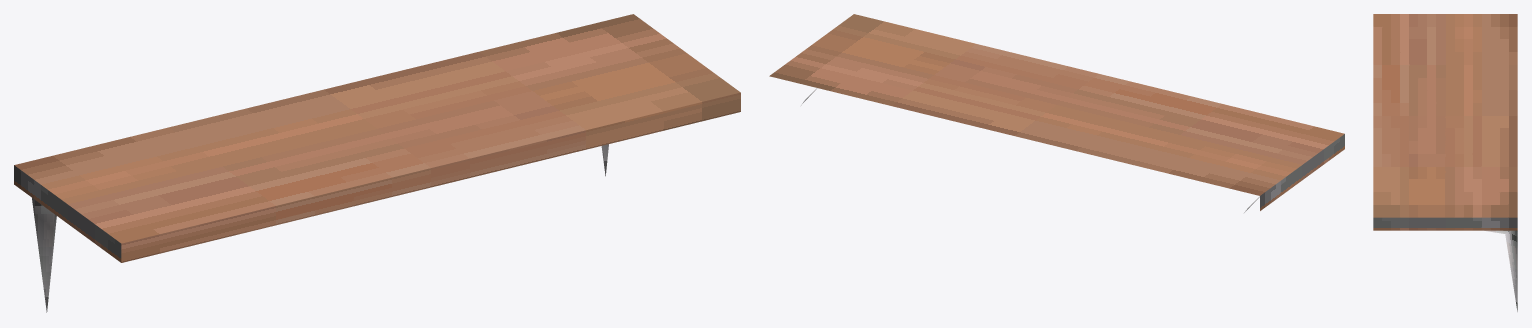
Rendered from Shelf01.glb.
3 renders of one model, left to right at view 1: azimuth 30°, elevation 25°; view 2: azimuth 150°, elevation 25°; view 3: azimuth 270°, elevation 25°, orthographic. The views are drawn at different scales.
Visible parts, largest first — view 1: SHELF01; view 2: SHELF01; view 3: SHELF01.
Boxes of the visible parts, x1=… form: SHELF01: x1=14, y1=14, x2=740, y2=312; SHELF01: x1=769, y1=14, x2=1344, y2=213; SHELF01: x1=1373, y1=14, x2=1517, y2=311.
Bounding box in the file's own units: 1 × 0.242 × 0.3.
1 material, 1 textured.
